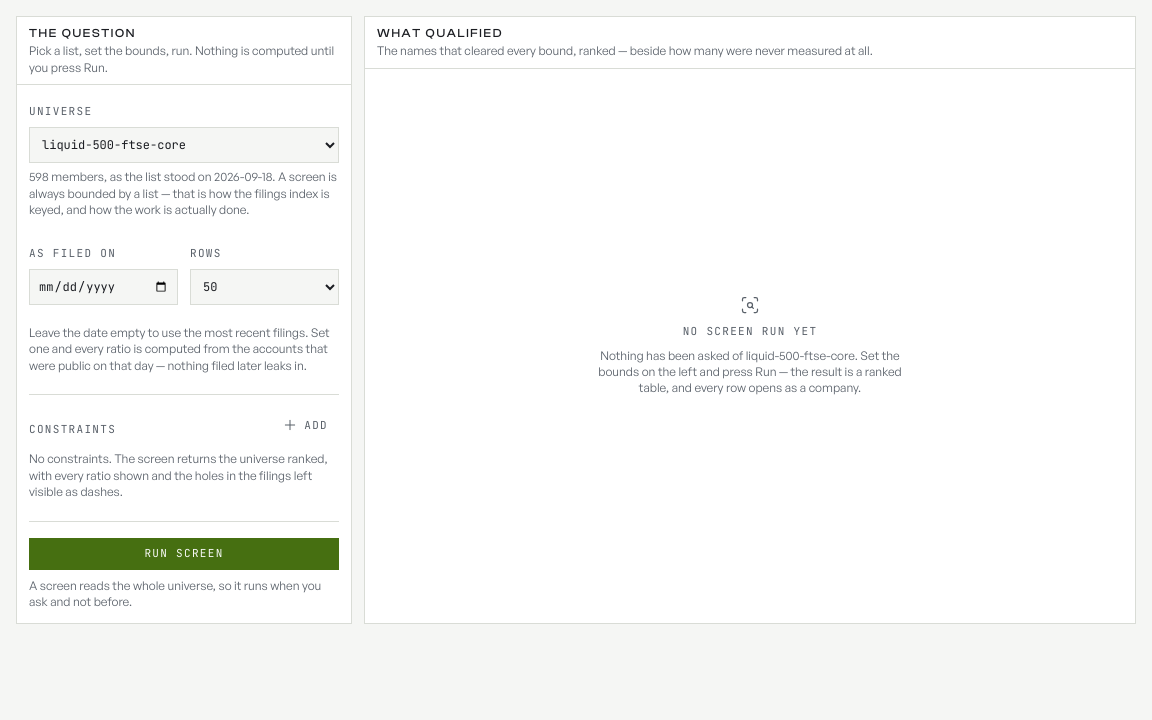
Test: Screen — the four states of a read › says so when the screen route itself is missing
The image size is (1152, 720).
Expected: the dropdown labelled "Universe" is shown, 29,127 -> 339,163
Step 1. Click the button with test id "run-screen" → x=184, y=554, box 29,538 -> 339,570
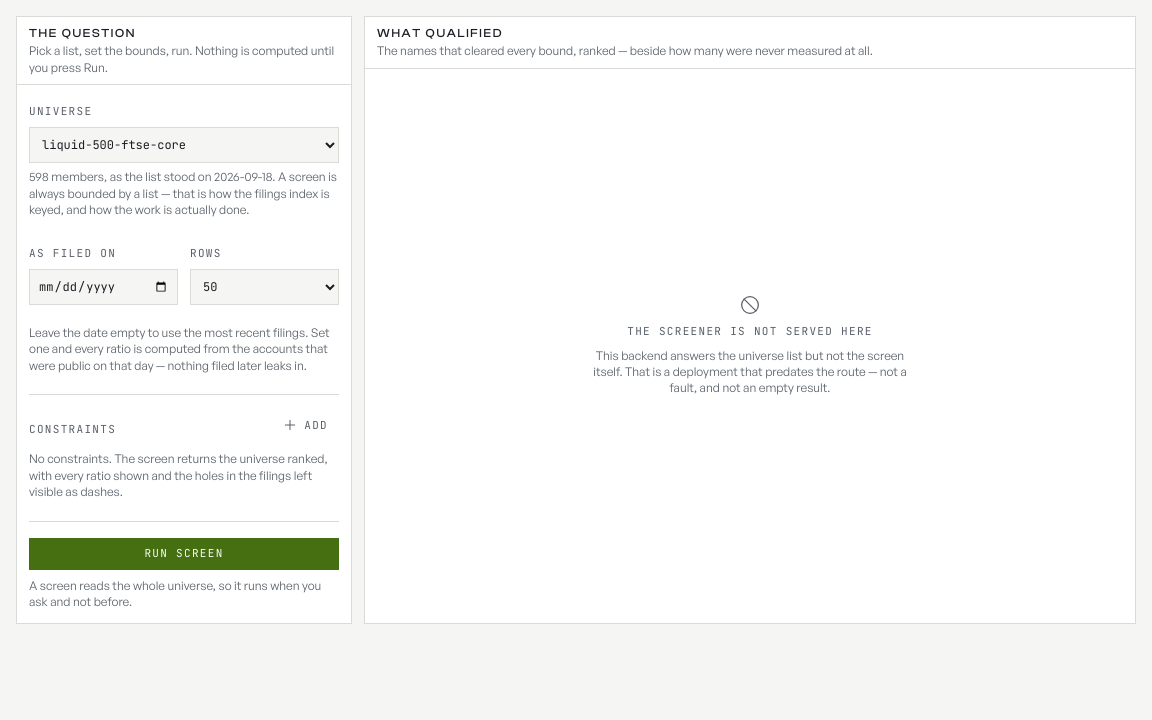
Now the element with test id "screen-route-unsupported" shows "not served here", box 627,324 -> 873,338
